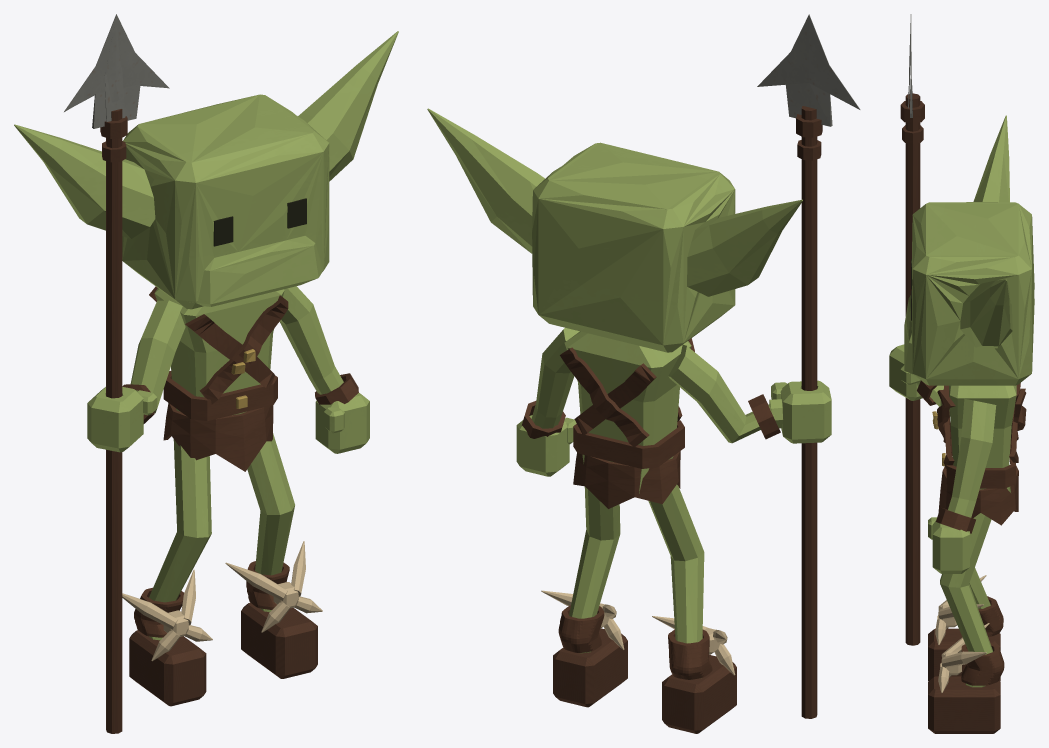
Rendered from host_02.glb.
3 views of the same model, side by side, from view 1: azimuth 30°, elevation 25°; view 2: azimuth 150°, elevation 25°; view 3: azimuth 270°, elevation 25° (orthographic). The views are drawn at different scales.
Parts seen in each view (by area): view 1: One continuous bare goblin skull, RIGHT full grounded wooden spear shaft, RIGHT spear compact source hand source compact planar grasp, LEFT relaxed compact goblin fist, Lean exposed green torso and pelvis, RIGHT long narrow connected bare leg, RIGHT coherent thick barbed spear point, Closed source ragged goblin loincloth, LEFT narrow grounded boot, RIGHT narrow grounded boot, LEFT long narrow connected bare leg, Fitted goblin waist belt (+7 smaller); view 2: One continuous bare goblin skull, RIGHT full grounded wooden spear shaft, RIGHT spear compact source hand source compact planar grasp, Lean exposed green torso and pelvis, LEFT relaxed compact goblin fist, RIGHT long narrow connected bare leg, RIGHT coherent thick barbed spear point, RIGHT narrow grounded boot, LEFT narrow grounded boot, Closed source ragged goblin loincloth, LEFT long narrow connected bare leg, Fitted goblin waist belt (+5 smaller); view 3: One continuous bare goblin skull, RIGHT full grounded wooden spear shaft, LEFT relaxed compact goblin fist, LEFT narrow grounded boot, Lean exposed green torso and pelvis, LEFT long narrow connected bare leg, Closed source ragged goblin loincloth, RIGHT spear compact source hand source compact planar grasp, LEFT broad ankle binding, RIGHT narrow grounded boot, Fitted goblin waist belt, RIGHT broad ankle binding (+11 smaller).
Boxes of the visible parts, box(x1,y1,x2,y2) form: One continuous bare goblin skull: box(14, 31, 398, 309); RIGHT full grounded wooden spear shaft: box(106, 109, 122, 733); RIGHT spear compact source hand source compact planar grasp: box(87, 300, 185, 452); LEFT relaxed compact goblin fist: box(279, 286, 369, 453); Lean exposed green torso and pelvis: box(154, 288, 284, 415); RIGHT long narrow connected bare leg: box(149, 439, 211, 640); RIGHT coherent thick barbed spear point: box(64, 14, 169, 128); Closed source ragged goblin loincloth: box(163, 403, 273, 471); LEFT narrow grounded boot: box(241, 602, 317, 678); RIGHT narrow grounded boot: box(129, 630, 206, 706); LEFT long narrow connected bare leg: box(247, 433, 294, 612); Fitted goblin waist belt: box(163, 371, 277, 420); One continuous bare goblin skull: box(427, 108, 802, 352); RIGHT full grounded wooden spear shaft: box(801, 106, 817, 718); RIGHT spear compact source hand source compact planar grasp: box(668, 344, 831, 443); Lean exposed green torso and pelvis: box(564, 331, 691, 493); LEFT relaxed compact goblin fist: box(516, 327, 579, 476); RIGHT long narrow connected bare leg: box(648, 484, 704, 643); RIGHT coherent thick barbed spear point: box(757, 14, 860, 126); RIGHT narrow grounded boot: box(662, 654, 736, 733); LEFT narrow grounded boot: box(553, 628, 627, 707); Closed source ragged goblin loincloth: box(573, 451, 680, 508); LEFT long narrow connected bare leg: box(569, 486, 620, 653); Fitted goblin waist belt: box(573, 420, 684, 468); One continuous bare goblin skull: box(904, 115, 1034, 385); RIGHT full grounded wooden spear shaft: box(905, 93, 920, 645); LEFT relaxed compact goblin fist: box(928, 398, 996, 573); LEFT narrow grounded boot: box(928, 676, 1000, 733); Lean exposed green torso and pelvis: box(950, 385, 1016, 492); LEFT long narrow connected bare leg: box(940, 513, 993, 687); Closed source ragged goblin loincloth: box(938, 458, 1018, 525); RIGHT spear compact source hand source compact planar grasp: box(889, 344, 950, 416); LEFT broad ankle binding: box(961, 642, 1004, 685); RIGHT narrow grounded boot: box(928, 628, 1000, 680); Fitted goblin waist belt: box(946, 438, 1015, 488); RIGHT broad ankle binding: box(978, 596, 1003, 636).
Size of the model in its own units: 0.9411 by 1.66 by 0.3465.
Materials: 8 (7 with a texture image).
